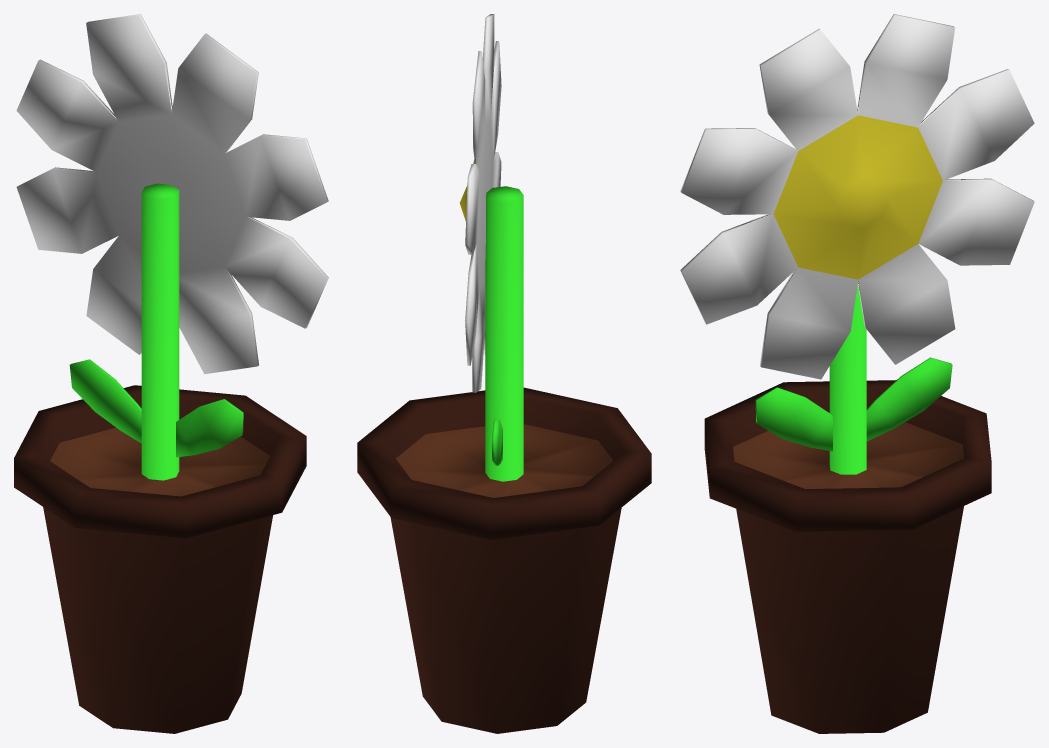
Rendered from Planta2.fbx.
3 renders of one model, left to right at view 1: azimuth 30°, elevation 25°; view 2: azimuth 150°, elevation 25°; view 3: azimuth 270°, elevation 25°, orthographic. The views are drawn at different scales.
Visible parts, largest first — view 1: Flor; view 2: Flor; view 3: Flor.
Boxes of the visible parts, x1=… form: Flor: x1=14, y1=14, x2=328, y2=733; Flor: x1=357, y1=14, x2=651, y2=733; Flor: x1=680, y1=14, x2=1034, y2=733.
Size of the model in its own units: 0.14 by 0.3695 by 0.1729.
